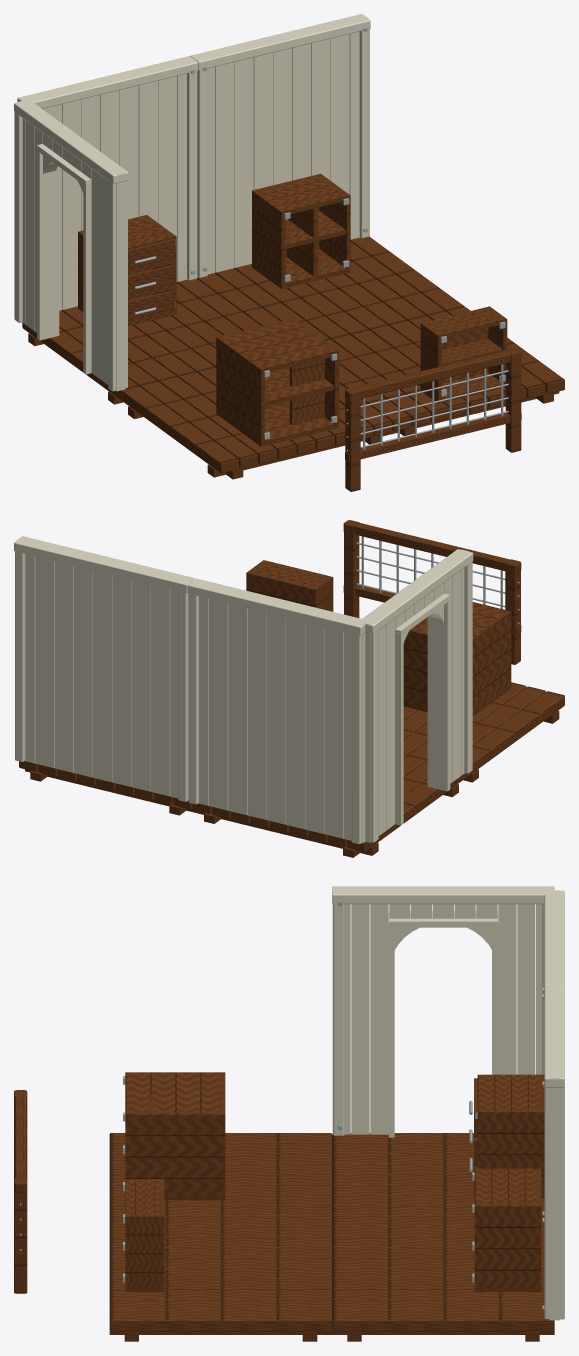
The picture shows the model from 3 angles, top to bottom: view 1: azimuth 30°, elevation 25°; view 2: azimuth 150°, elevation 25°; view 3: azimuth 270°, elevation 25°; orthographic projection. The views are drawn at different scales.
Parts seen in each view (by area): view 1: 005-room-solid-partition/0, 006-room-wide-arch/0, 004-room-solid-partition/0, 002-modular-survival-base-builder--plank-floor/0, 010-kitchen-corner-carcass/0, 001-modular-survival-base-builder--plank-floor/0, 000-modular-survival-base-builder--plank-floor/0, 007-kitchen-base-carcass/0, 003-modular-survival-base-builder--plank-floor/0, 011-balcony-guardrail/0, 009-kitchen-wall-carcass/0, 011-balcony-guardrail/1 (+4 smaller); view 2: 004-room-solid-partition/0, 005-room-solid-partition/0, 006-room-wide-arch/0, 010-kitchen-corner-carcass/0, 001-modular-survival-base-builder--plank-floor/0, 011-balcony-guardrail/0, 000-modular-survival-base-builder--plank-floor/0, 009-kitchen-wall-carcass/0, 002-modular-survival-base-builder--plank-floor/0, 011-balcony-guardrail/1; view 3: 006-room-wide-arch/0, 003-modular-survival-base-builder--plank-floor/0, 002-modular-survival-base-builder--plank-floor/0, 001-modular-survival-base-builder--plank-floor/0, 000-modular-survival-base-builder--plank-floor/0, 010-kitchen-corner-carcass/0, 007-kitchen-base-carcass/0, 005-room-solid-partition/0, 008-kitchen-drawer-carcass/0, 009-kitchen-wall-carcass/0, 011-balcony-guardrail/0, 004-room-solid-partition/0.
Boxes of the visible parts, x1,y1,x2,y2 form: 005-room-solid-partition/0: [190, 14, 370, 277]; 006-room-wide-arch/0: [14, 100, 128, 391]; 004-room-solid-partition/0: [17, 56, 198, 310]; 002-modular-survival-base-builder--plank-floor/0: [197, 237, 464, 341]; 010-kitchen-corner-carcass/0: [216, 318, 338, 446]; 001-modular-survival-base-builder--plank-floor/0: [122, 368, 392, 479]; 000-modular-survival-base-builder--plank-floor/0: [22, 279, 261, 404]; 007-kitchen-base-carcass/0: [252, 173, 350, 288]; 003-modular-survival-base-builder--plank-floor/0: [326, 307, 564, 435]; 011-balcony-guardrail/0: [345, 348, 521, 491]; 009-kitchen-wall-carcass/0: [420, 306, 507, 403]; 011-balcony-guardrail/1: [346, 364, 508, 451]; 004-room-solid-partition/0: [187, 578, 367, 844]; 005-room-solid-partition/0: [14, 536, 195, 801]; 006-room-wide-arch/0: [360, 549, 473, 842]; 010-kitchen-corner-carcass/0: [403, 602, 511, 716]; 001-modular-survival-base-builder--plank-floor/0: [403, 682, 564, 782]; 011-balcony-guardrail/0: [343, 520, 521, 664]; 000-modular-survival-base-builder--plank-floor/0: [192, 754, 464, 857]; 009-kitchen-wall-carcass/0: [246, 560, 333, 611]; 002-modular-survival-base-builder--plank-floor/0: [19, 761, 198, 815]; 011-balcony-guardrail/1: [356, 536, 519, 624]; 006-room-wide-arch/0: [332, 886, 554, 1137]; 003-modular-survival-base-builder--plank-floor/0: [109, 1227, 332, 1341]; 002-modular-survival-base-builder--plank-floor/0: [332, 1227, 554, 1341]; 001-modular-survival-base-builder--plank-floor/0: [109, 1133, 332, 1227]; 000-modular-survival-base-builder--plank-floor/0: [332, 1133, 544, 1227]; 010-kitchen-corner-carcass/0: [125, 1072, 225, 1200]; 007-kitchen-base-carcass/0: [474, 1168, 541, 1291]; 005-room-solid-partition/0: [544, 984, 564, 1320]; 008-kitchen-drawer-carcass/0: [477, 1074, 544, 1197]; 009-kitchen-wall-carcass/0: [125, 1179, 164, 1291]; 011-balcony-guardrail/0: [14, 1090, 27, 1293]; 004-room-solid-partition/0: [544, 890, 564, 985].
Size of the model in its own units: 4.12 by 2.61 by 4.95.
Materials: 3 (1 with a texture image).
